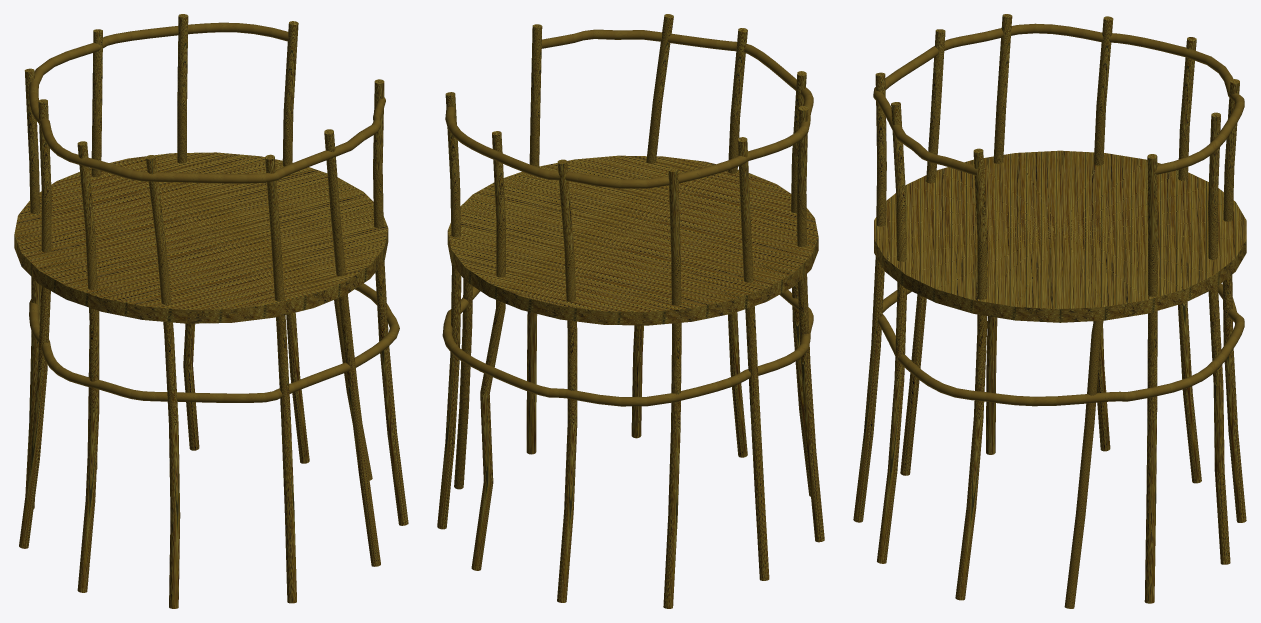
File: Tower3.FBX
The picture shows the model from 3 angles, left to right: view 1: azimuth 30°, elevation 25°; view 2: azimuth 150°, elevation 25°; view 3: azimuth 270°, elevation 25°; orthographic projection.
Visible parts, largest first — view 1: Cylinder006; view 2: Cylinder006; view 3: Cylinder006.
Part boxes in pixels (box(x1,y1,x2,y2)): Cylinder006: box(14, 14, 408, 608); Cylinder006: box(437, 14, 824, 608); Cylinder006: box(853, 14, 1246, 608).
Bounding box in the file's own units: 73.38 × 93.7 × 73.89.
